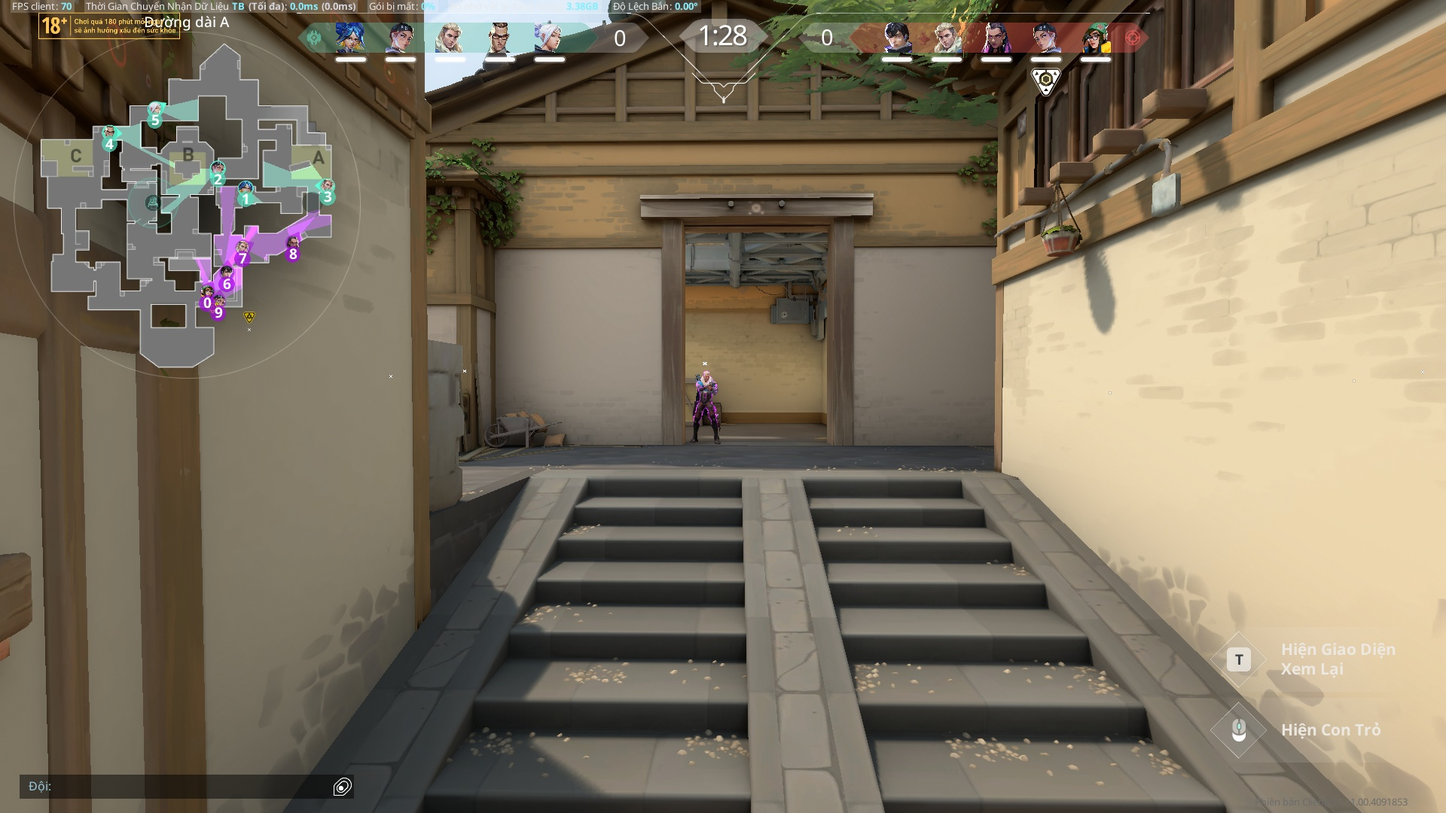body: (696, 379, 718, 402)
head: (702, 371, 712, 380)
